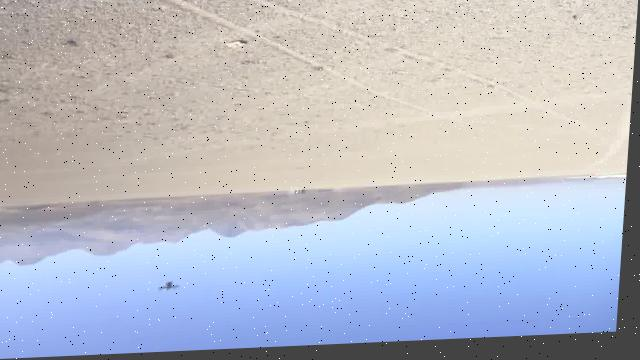drone: (160, 280, 187, 297)
